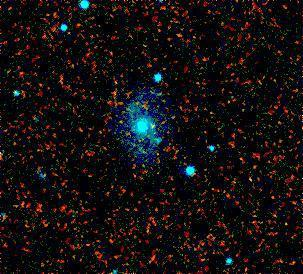star: (138, 110, 168, 140)
